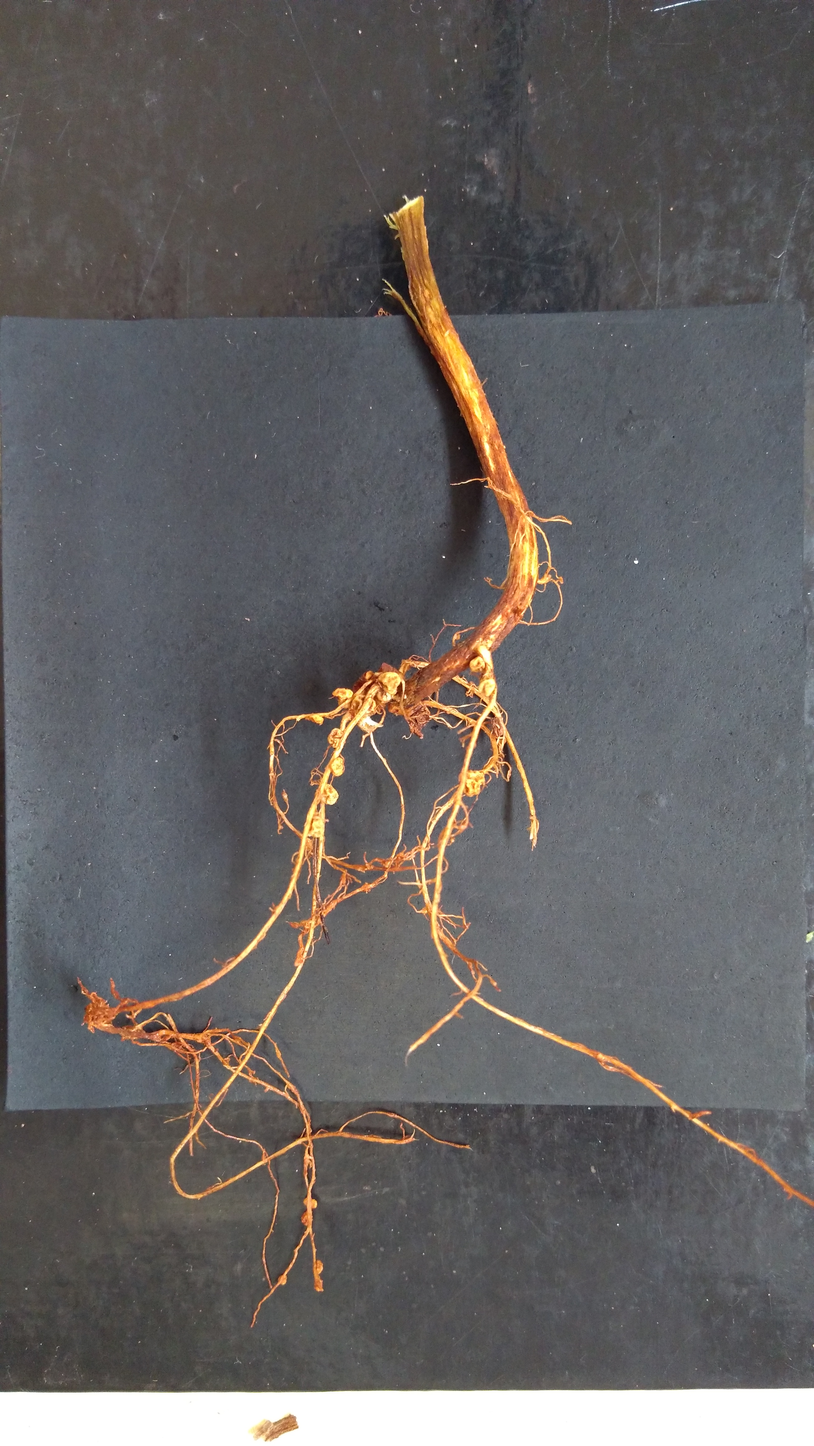nodule: (463, 769, 486, 799), (376, 671, 402, 696), (350, 695, 379, 717), (476, 677, 496, 699), (322, 782, 340, 806), (308, 814, 325, 839), (467, 655, 487, 676), (326, 727, 342, 750), (329, 756, 344, 779), (331, 687, 355, 701), (300, 1210, 314, 1227), (302, 1196, 319, 1209), (315, 1258, 325, 1275), (277, 1274, 288, 1285)
